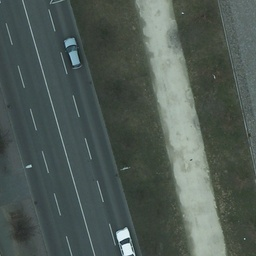car: (63, 36, 82, 68)
